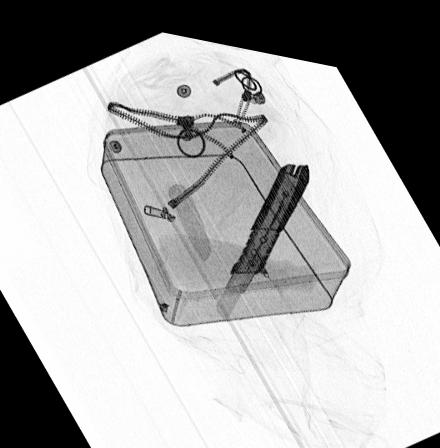Knife: (213, 151, 309, 313)
